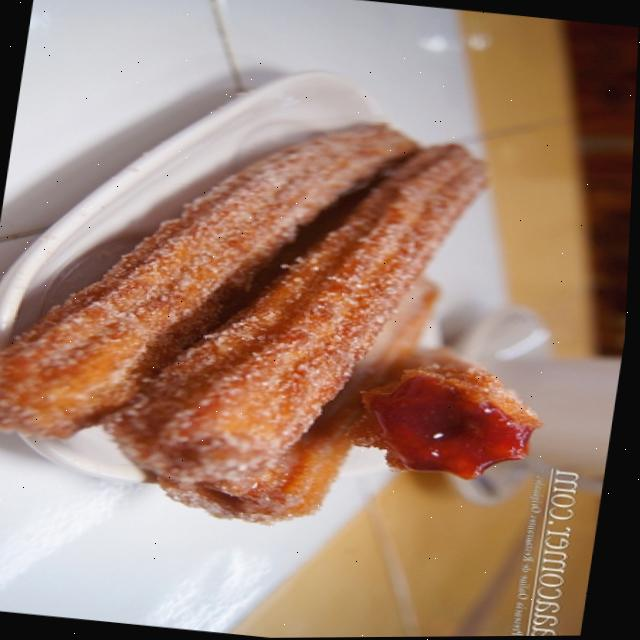炸货点心: (0, 6, 630, 622)
